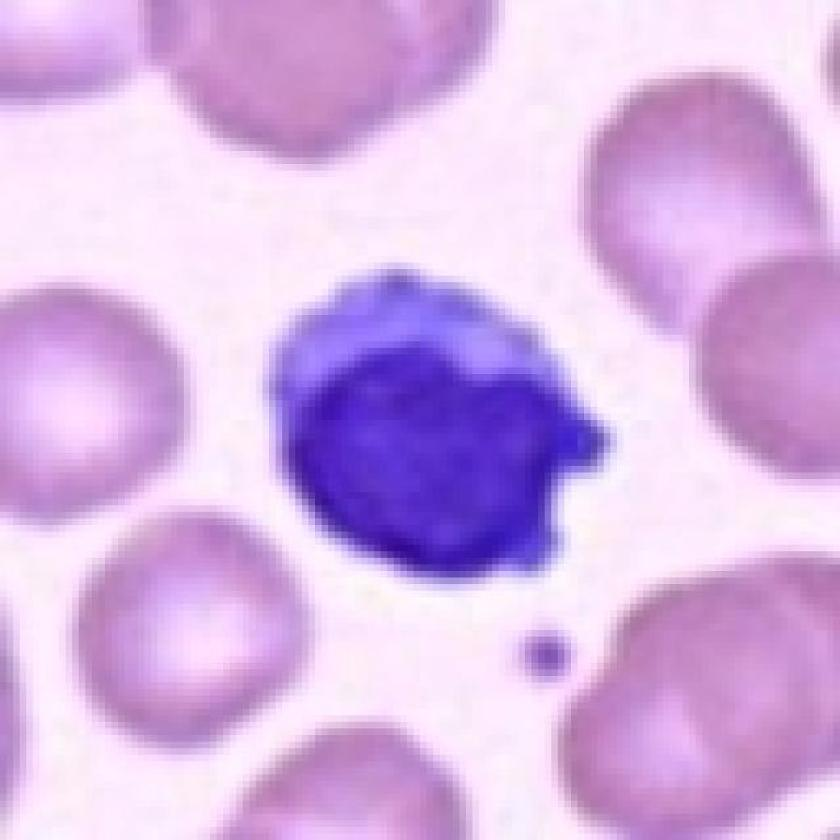lymphocyte: (262, 257, 618, 586)
